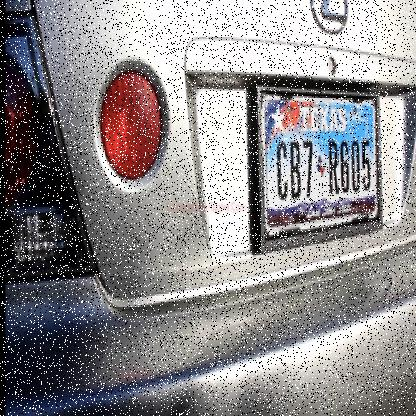licence: (258, 87, 382, 237)
